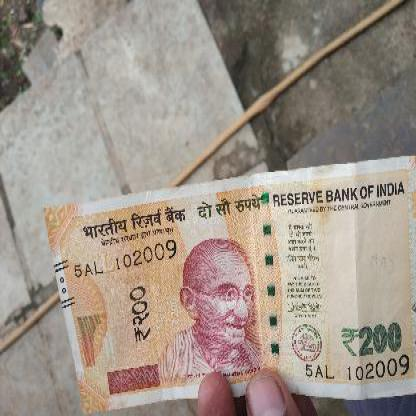New200Front: (55, 168, 415, 407)
